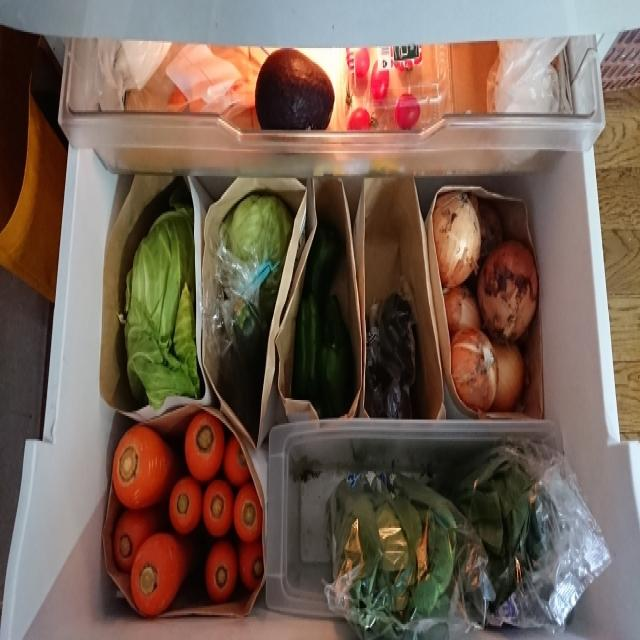cabbage: (120, 204, 203, 409), (221, 187, 300, 270)
carrot: (112, 424, 171, 511), (134, 536, 187, 618), (188, 413, 226, 481), (115, 513, 155, 574), (205, 541, 239, 604), (205, 483, 236, 536), (233, 489, 265, 539), (171, 479, 201, 531), (240, 541, 266, 592), (227, 435, 252, 483)
onion: (481, 242, 541, 346), (434, 194, 481, 286), (450, 330, 500, 415), (443, 286, 483, 334), (495, 347, 525, 411)
